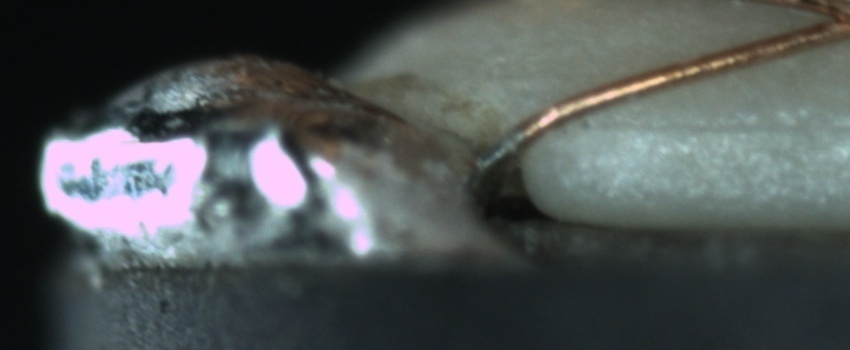CL: (778, 0, 850, 46)
DL: (599, 95, 849, 159)
TS: (476, 129, 529, 168)
